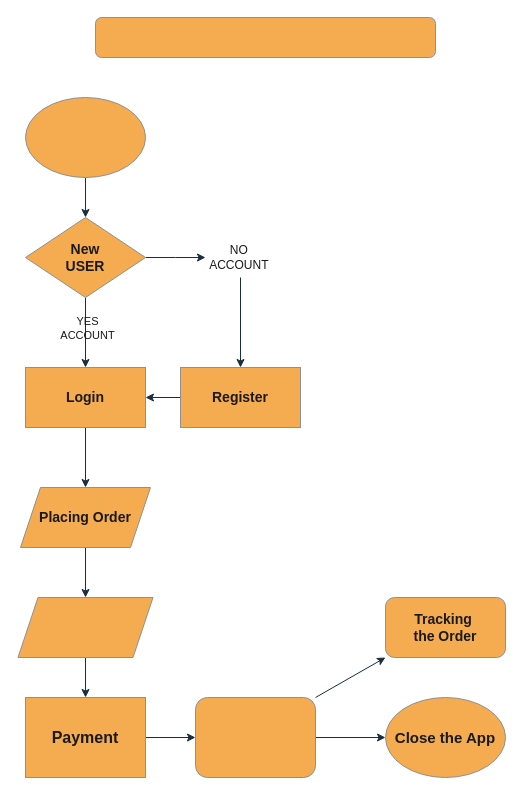
The diagram is 523 pixels wide and 795 high, and some of its shapes have lost their labels. Each missing label, with the box of its shape:
Adding Address: (17, 596, 153, 658)
Attendence System: (94, 16, 436, 58)
Intall/Start: (24, 96, 146, 178)
Order placed: (194, 696, 316, 778)
